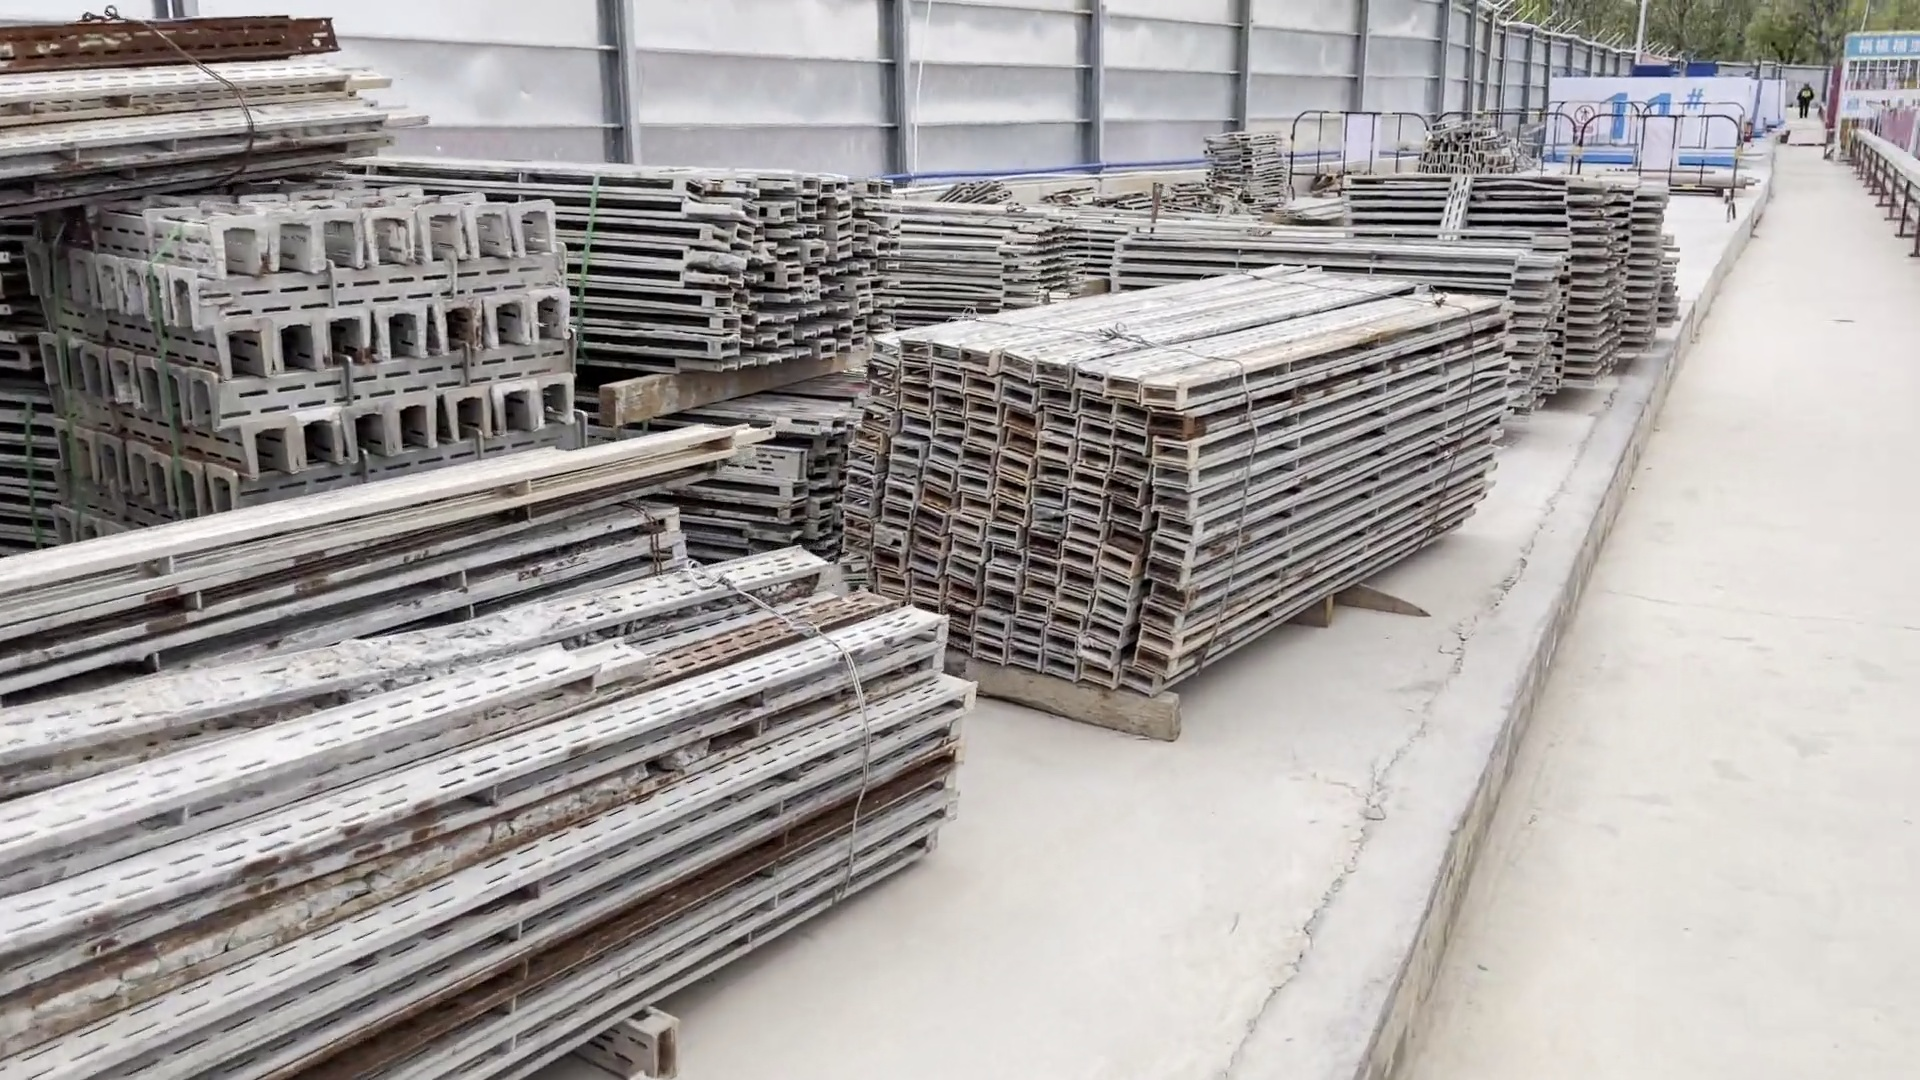fence: (1288, 104, 1757, 214)
helmet: (1803, 81, 1812, 87)
person: (1794, 78, 1815, 121)
slogan: (1837, 84, 1919, 126), (1838, 20, 1920, 57)
vest: (1798, 88, 1816, 100)
